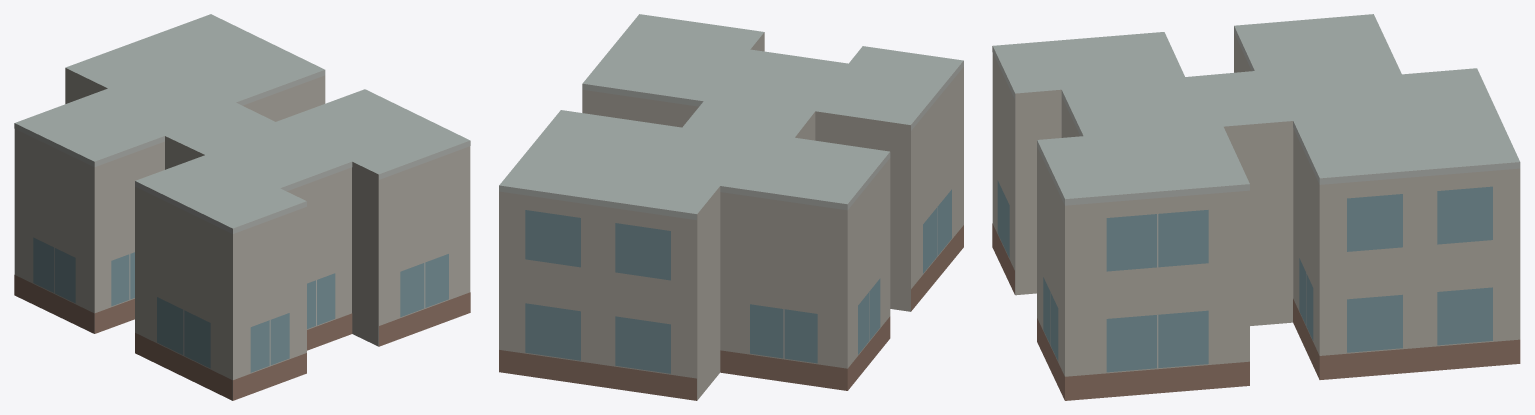
Rendered from survey-upis-32463720.glb.
The picture shows the model from 3 angles, left to right: view 1: azimuth 30°, elevation 25°; view 2: azimuth 150°, elevation 25°; view 3: azimuth 270°, elevation 25°; orthographic projection. The views are drawn at different scales.
Parts seen in each view (by area): view 1: survey-upis-32463720.tmp; view 2: survey-upis-32463720.tmp; view 3: survey-upis-32463720.tmp.
Boxes of the visible parts, x1=… form: survey-upis-32463720.tmp: x1=14, y1=14, x2=470, y2=400; survey-upis-32463720.tmp: x1=499, y1=14, x2=963, y2=400; survey-upis-32463720.tmp: x1=992, y1=14, x2=1520, y2=400.
Bounding box in the file's own units: 14.85 × 7.54 × 17.89.
